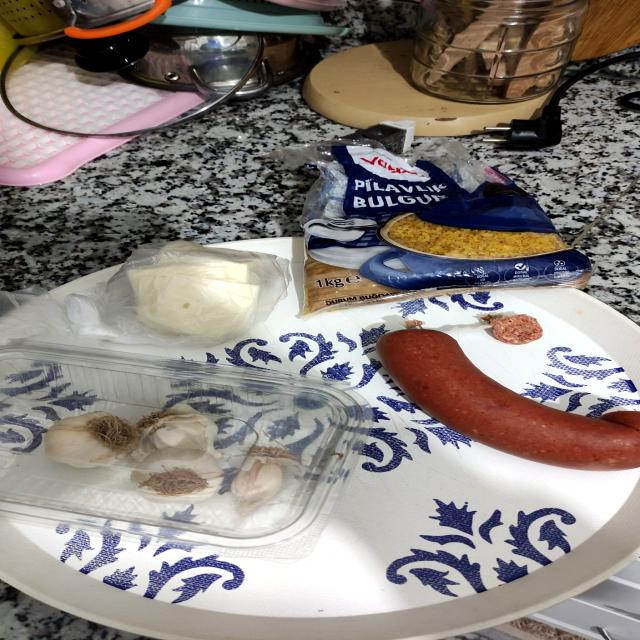bulgur: (300, 142, 596, 316)
cheese: (104, 227, 288, 343)
garlic: (22, 386, 313, 516)
sausage: (368, 317, 640, 479)
